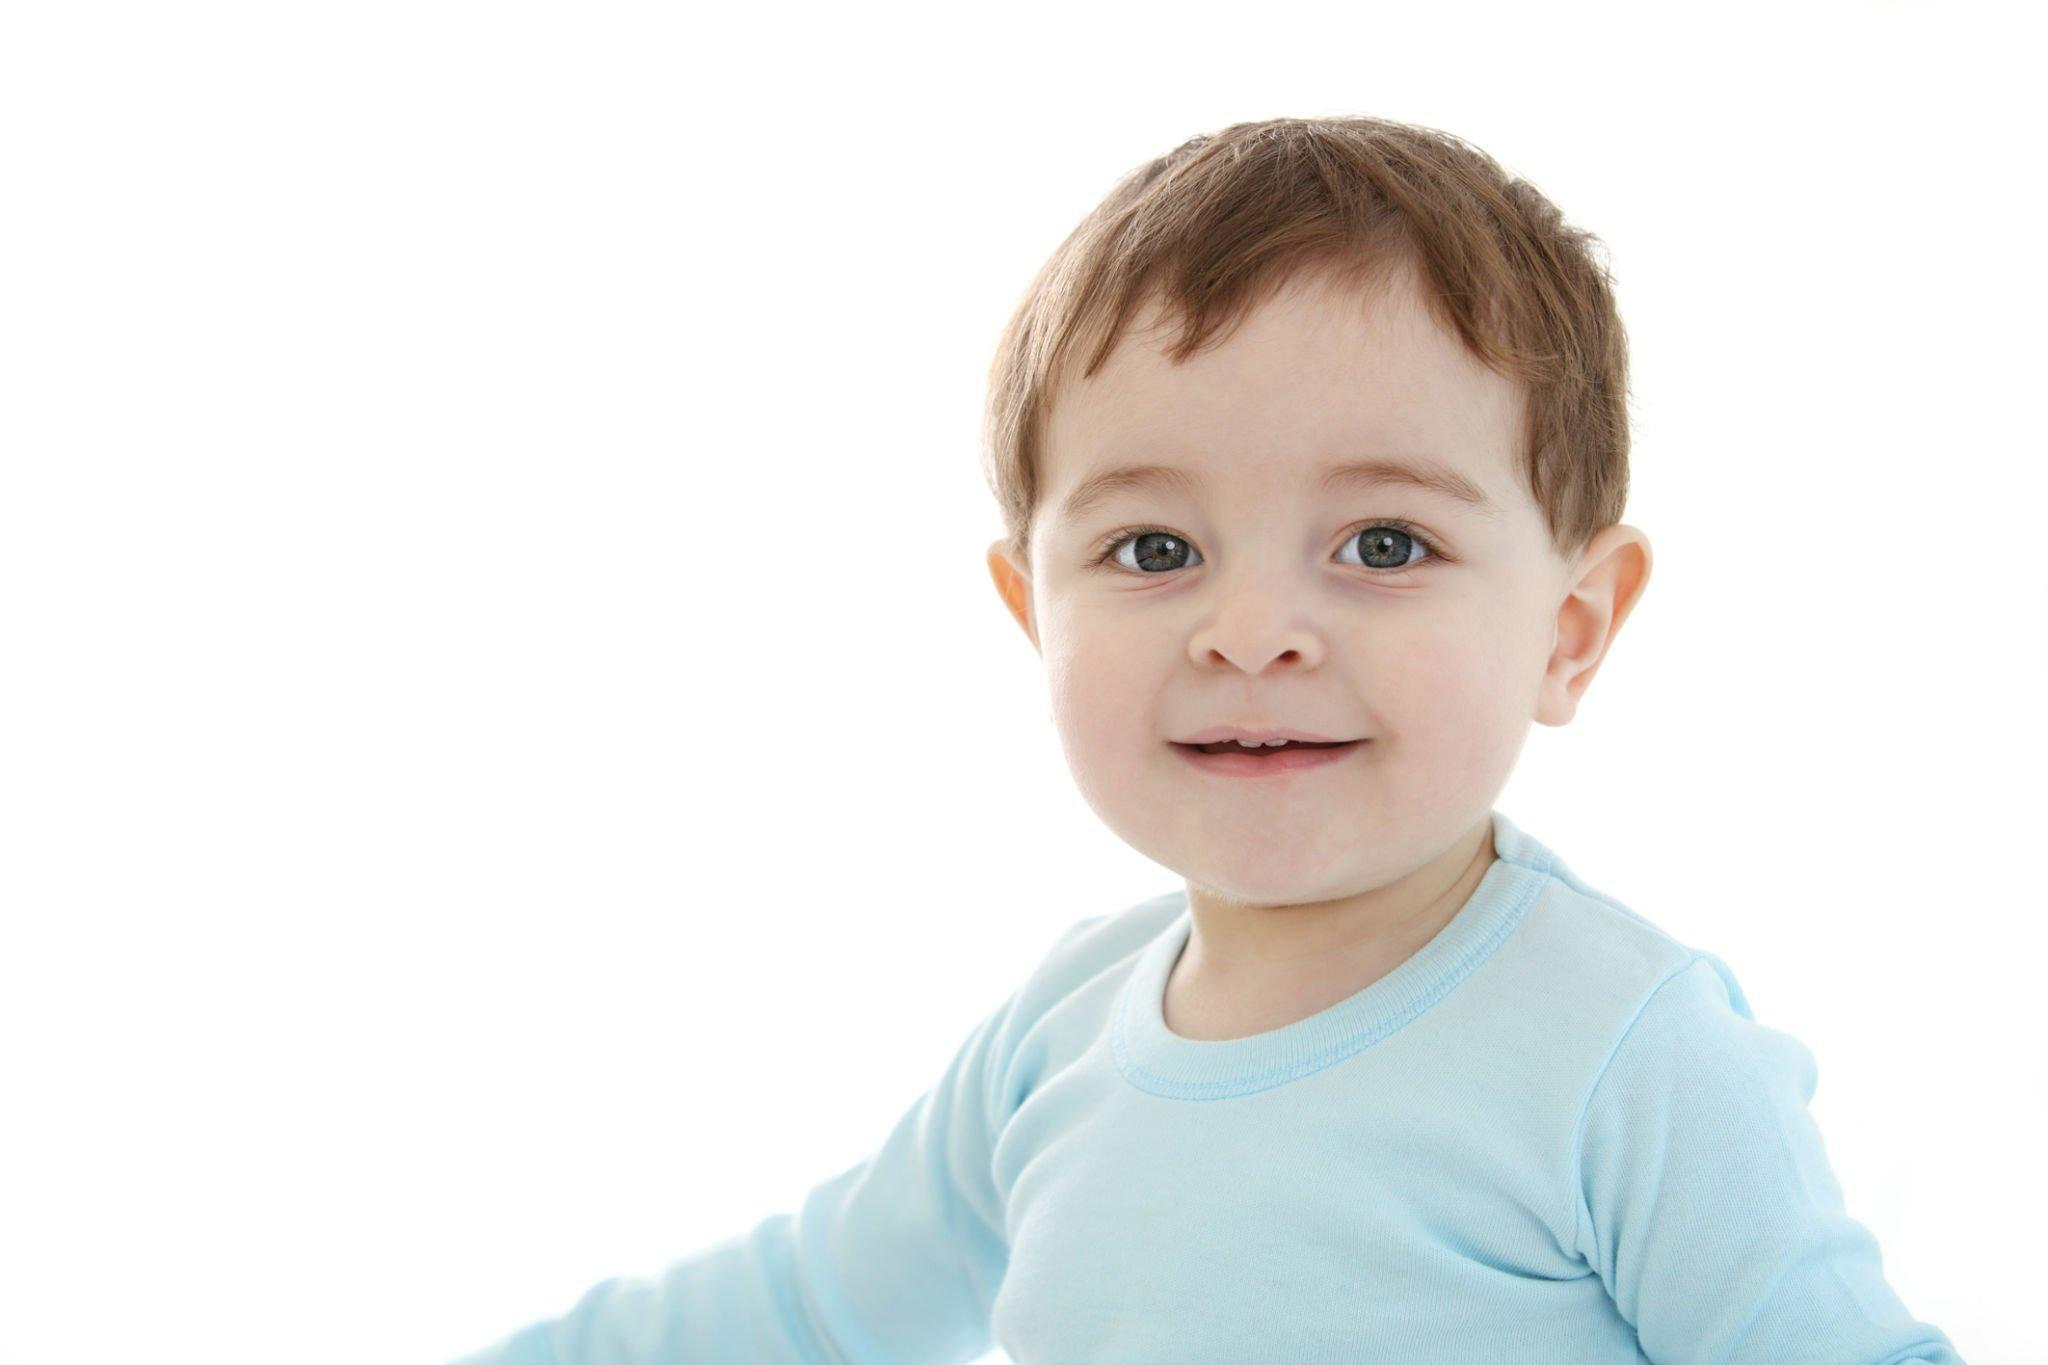Healthy: (956, 232, 1683, 929)
